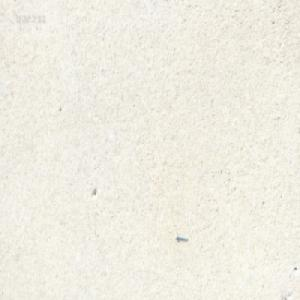Nail: (176, 232, 188, 241)
